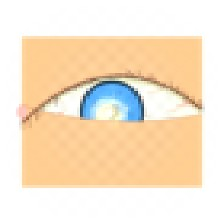corneal_ulcer: (88, 99, 128, 131)
